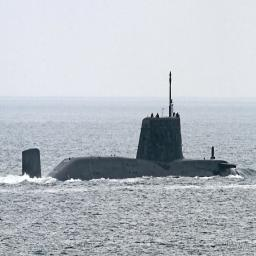submarine: (22, 71, 232, 178)
